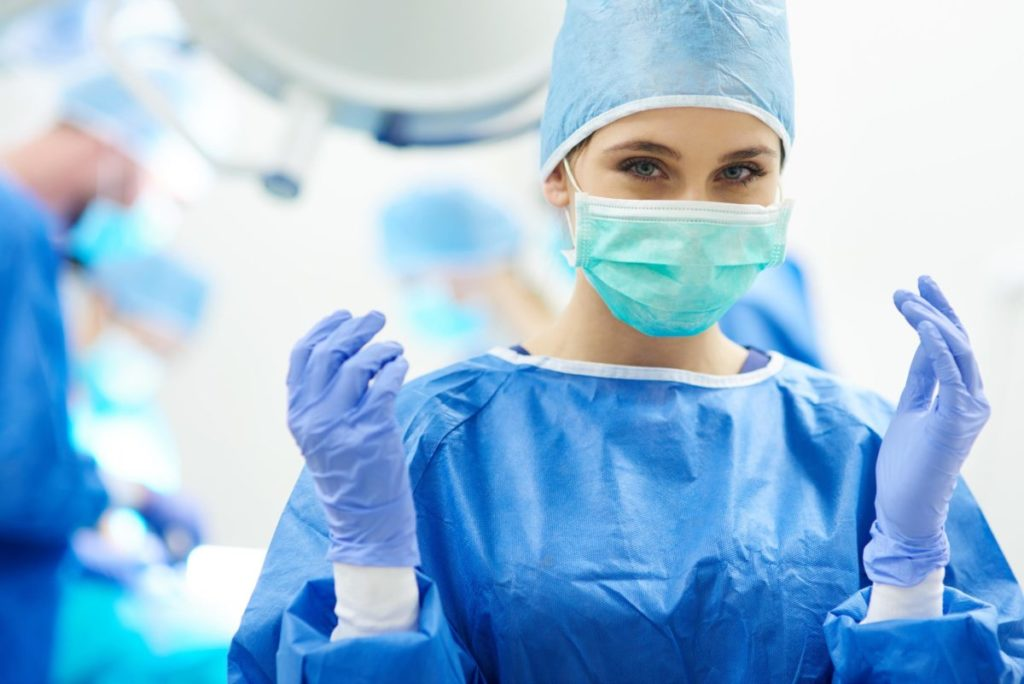glove: (867, 270, 994, 577), (274, 306, 424, 564)
